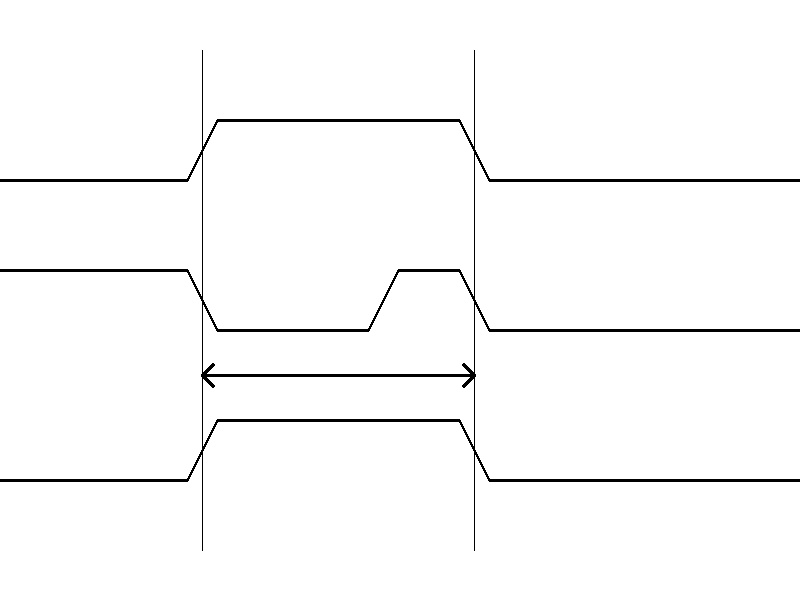double_arrow: (202, 360, 474, 390)
